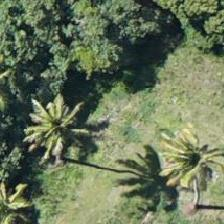coconut_tree: (3, 78, 93, 168), (132, 116, 222, 206)
